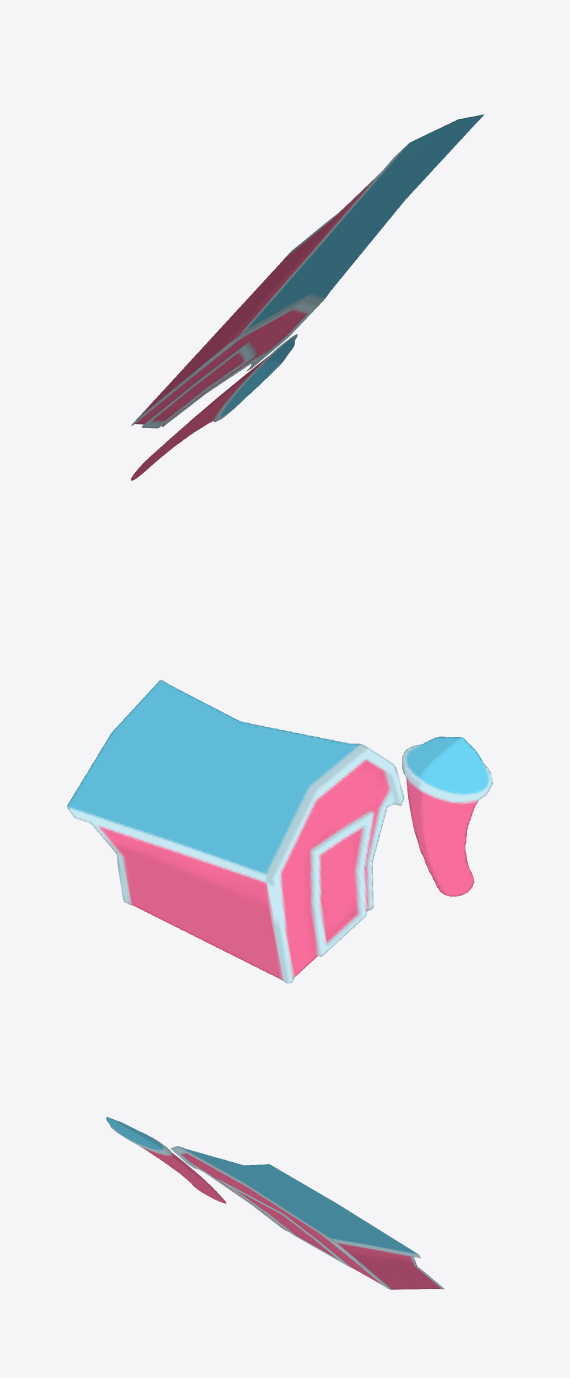
The model's file is CropGatherer_spriteplane_TEST.FBX.
The picture shows the model from 3 angles, top to bottom: view 1: azimuth 30°, elevation 25°; view 2: azimuth 150°, elevation 25°; view 3: azimuth 270°, elevation 25°; orthographic projection. The views are drawn at different scales.
Visible parts, largest first — view 1: CropBarn_Spritesheet_Model; view 2: CropBarn_Spritesheet_Model; view 3: CropBarn_Spritesheet_Model.
Part boxes in pixels (box(x1,y1,x2,y2)): CropBarn_Spritesheet_Model: box(131, 114, 483, 480); CropBarn_Spritesheet_Model: box(67, 679, 493, 983); CropBarn_Spritesheet_Model: box(106, 1117, 444, 1289).
Bounding box in the file's own units: 288 × 141 × 288.
1 material, 1 textured.
